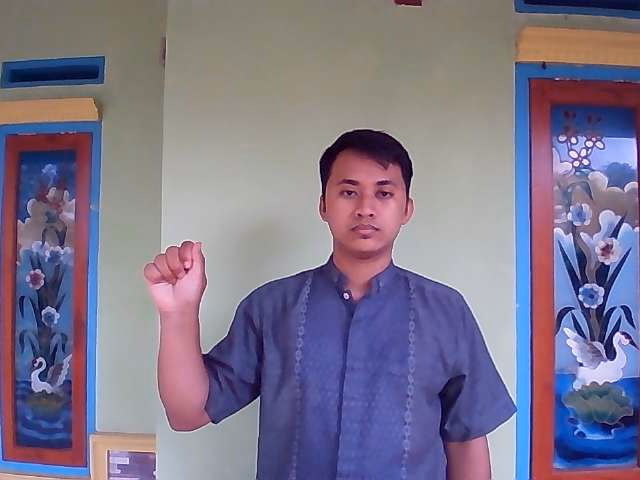A: (138, 231, 215, 327)
